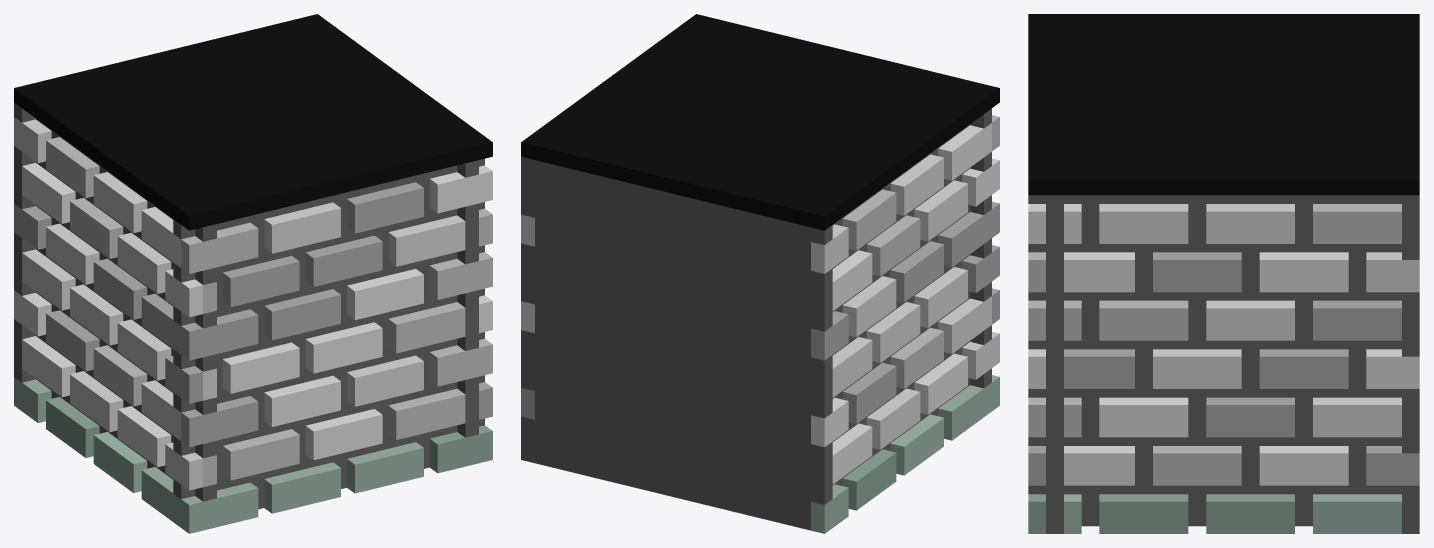
File: tile_sewers_WALL_alt.glb
The picture shows the model from 3 angles, left to right: view 1: azimuth 30°, elevation 25°; view 2: azimuth 150°, elevation 25°; view 3: azimuth 270°, elevation 25°; orthographic projection. The views are drawn at different scales.
Visible parts, largest first — view 1: tile_sewers_WALL_alt_v3; view 2: tile_sewers_WALL_alt_v3; view 3: tile_sewers_WALL_alt_v3.
Part boxes in pixels (x1,y1,x2,y2): tile_sewers_WALL_alt_v3: [14, 14, 492, 533]; tile_sewers_WALL_alt_v3: [521, 14, 999, 533]; tile_sewers_WALL_alt_v3: [1028, 14, 1419, 533].
Bounding box in the file's own units: 1 × 1 × 1.
Materials: 1 (1 with a texture image).
